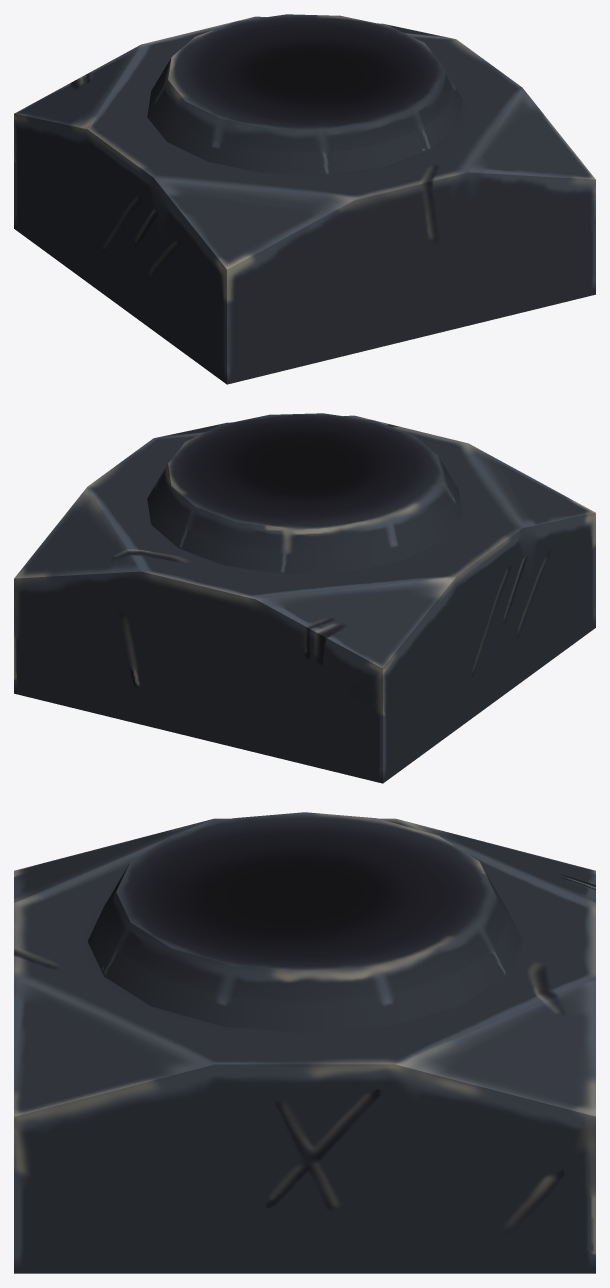
Rendered from Button_2.fbx.
3 renders of one model, top to bottom at view 1: azimuth 30°, elevation 25°; view 2: azimuth 150°, elevation 25°; view 3: azimuth 270°, elevation 25°, orthographic. The views are drawn at different scales.
Visible parts, largest first — view 1: ButtonHolder; view 2: ButtonHolder; view 3: ButtonHolder.
Part boxes in pixels (left/top/right/bottom): ButtonHolder: left=14, top=14, right=595, bottom=384; ButtonHolder: left=14, top=413, right=595, bottom=783; ButtonHolder: left=14, top=812, right=595, bottom=1273.
Size of the model in its own units: 200 by 98.13 by 200.
